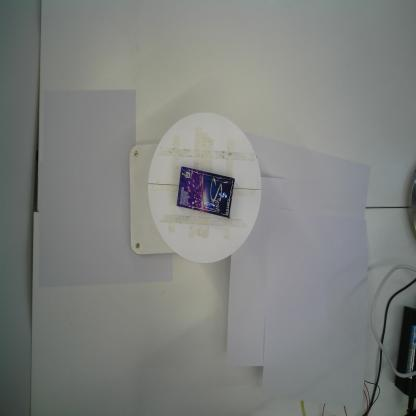Gum: (176, 166, 236, 219)
